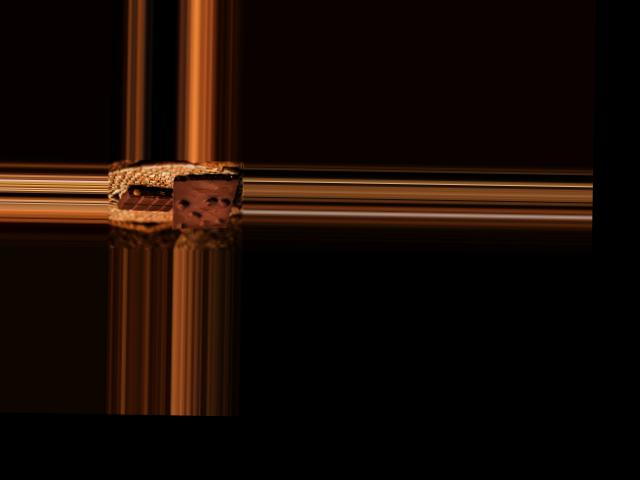chocolate: (168, 174, 239, 231)
